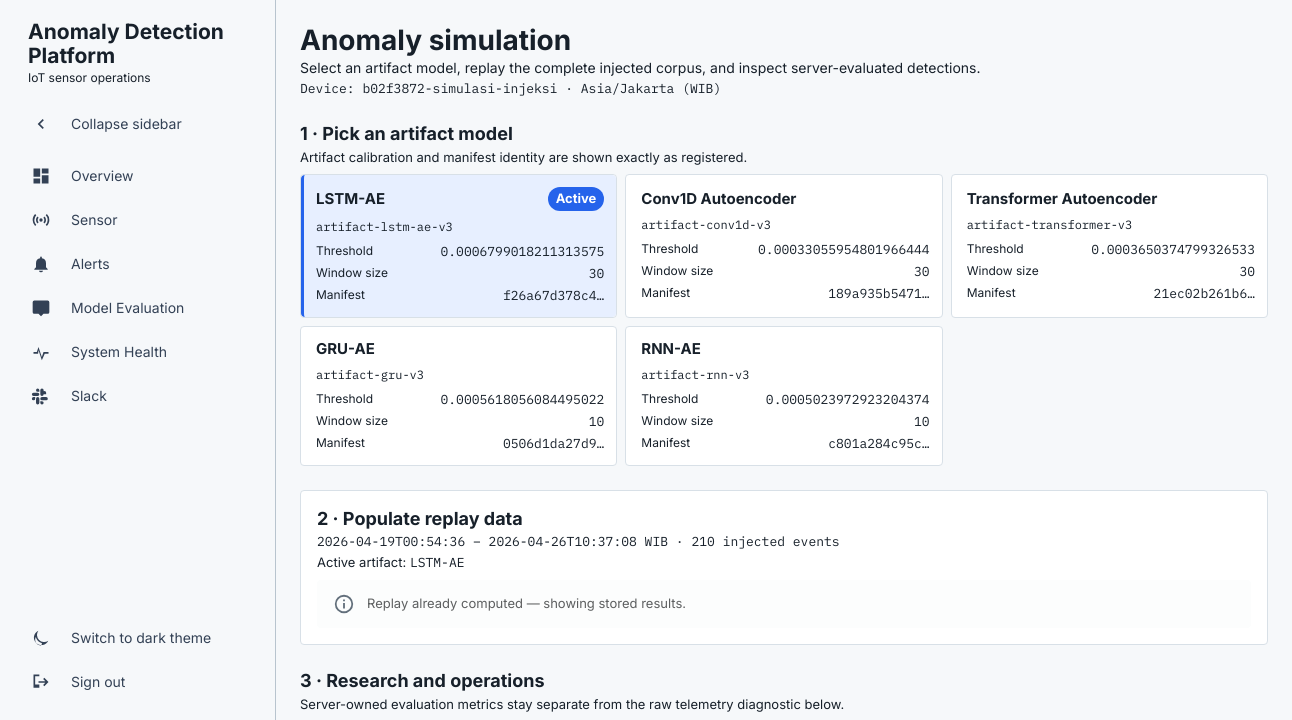
Test case: SimulationPage › renders a clear empty state when the selected model has no replay results
The width and height of the screenshot is (1292, 720).
Step 1. Click the button named "GRU-AE, select model" → (459, 396), box [301,327,616,465]
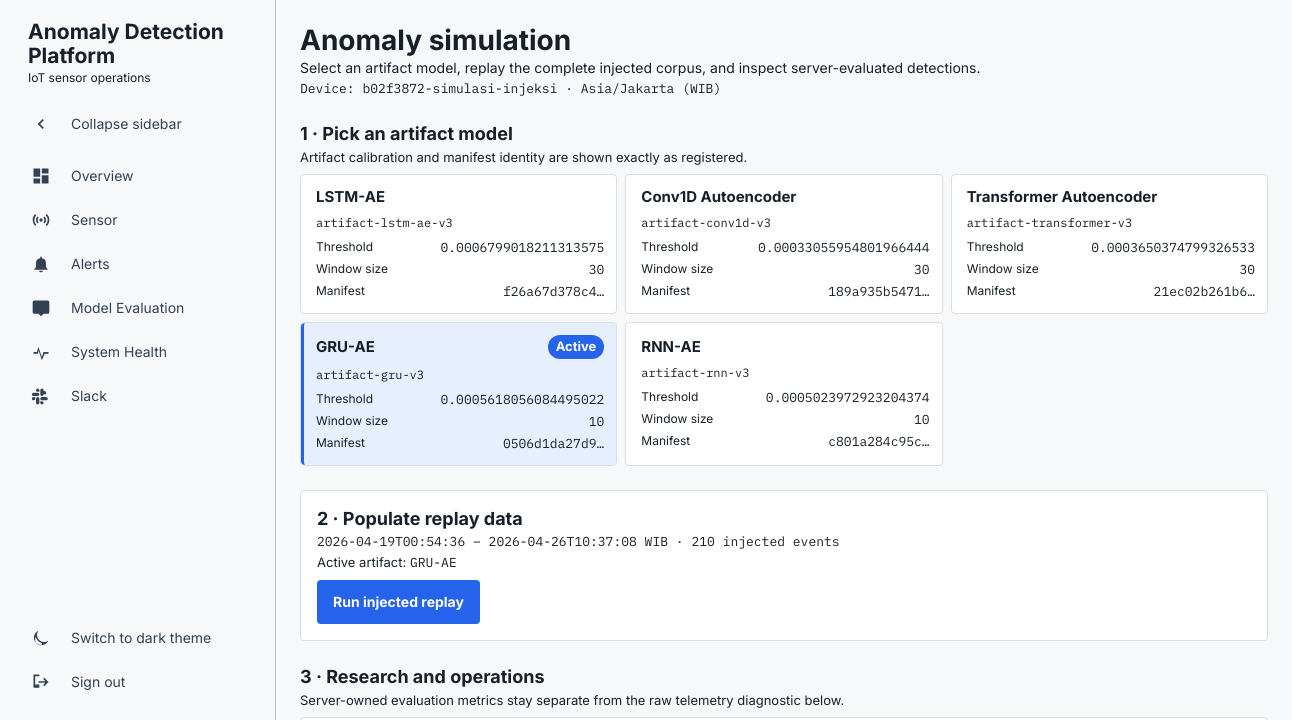
Expected: the button "Run injected replay" is shown, [317,580,480,624]
